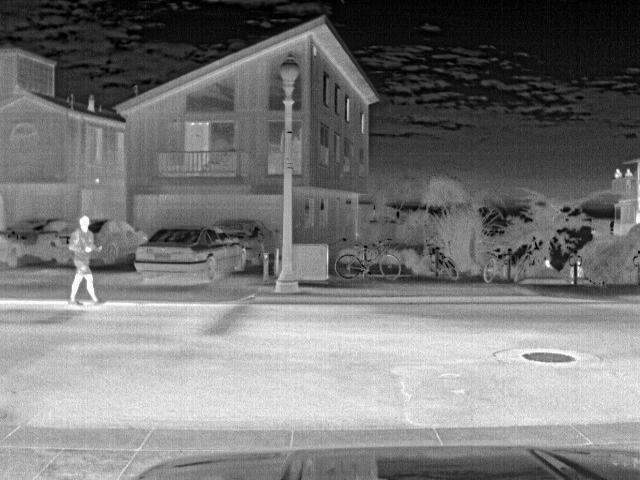car: (132, 225, 244, 288), (1, 218, 70, 269), (213, 219, 276, 271), (87, 218, 148, 271), (51, 222, 79, 267)
person: (66, 216, 106, 308)
